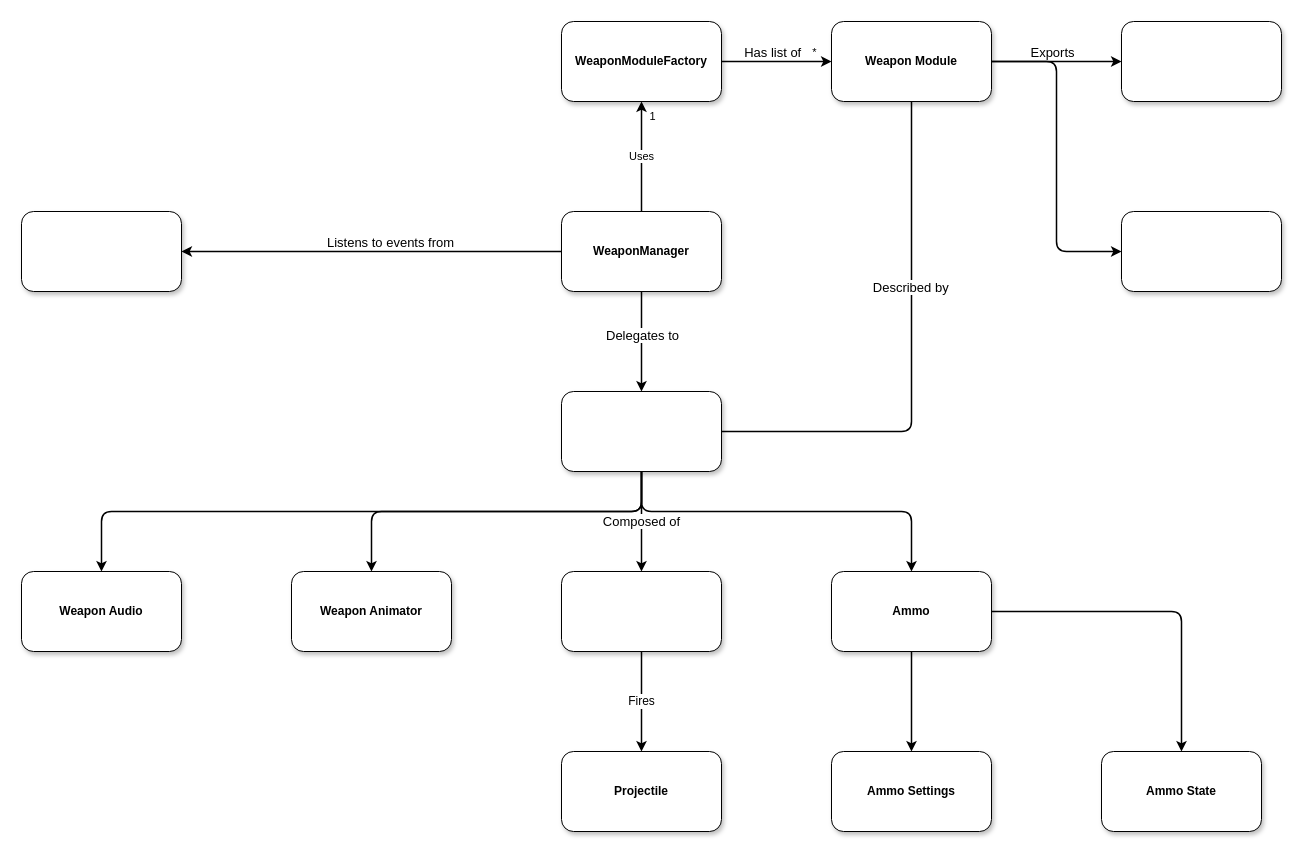
This 1305x856 diagram has some shape labels left out. Each missing label, with the centre of its shape:
Projectile Launcher: [642,612]
Weapon: [642,432]
Weapon Input: [102,252]
Weapon Metadata: [1202,252]
Weapon Prefab: [1202,62]
